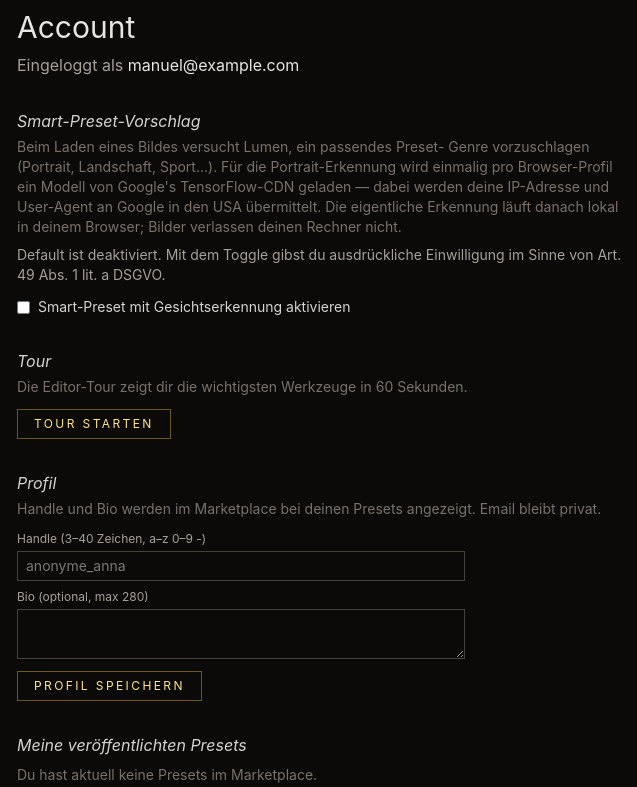
Scenario: Account › Profil-Save 409 zeigt 'bereits vergeben'-Hinweis
This screenshot has width=637, height=787.
Type "anna" into the field with test id "account-handle" at (241, 566), box [17,551,465,581]
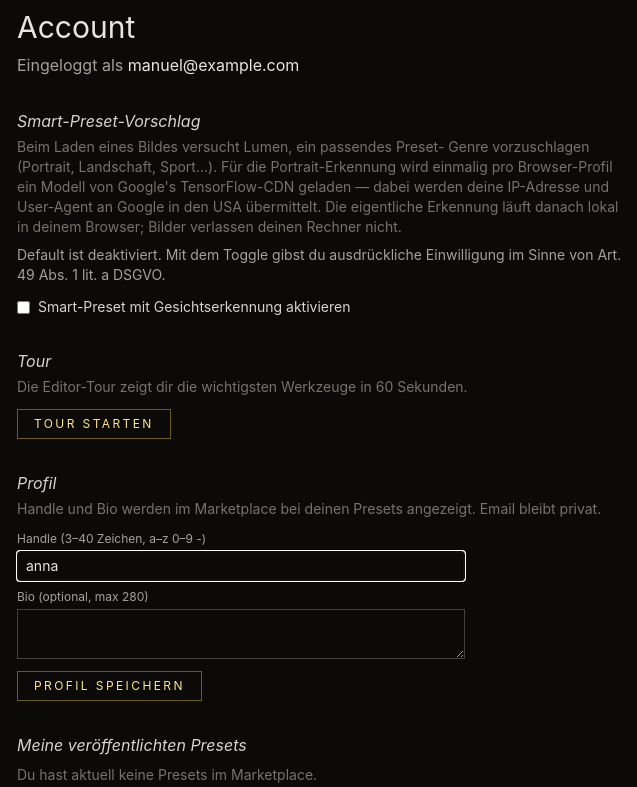
Click the button with test id "account-profile-save" at (109, 686), box [17,671,202,701]
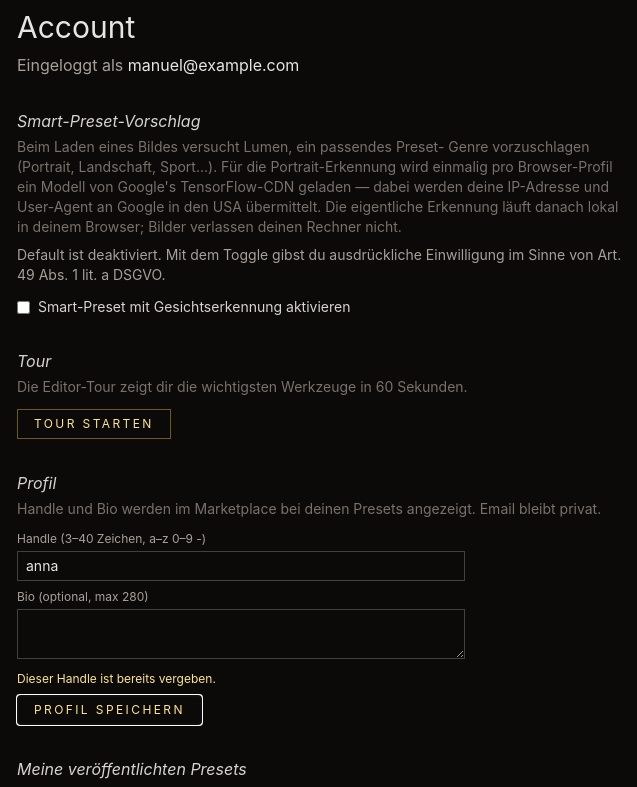
Result: the text with test id "account-profile-feedback" shows "bereits vergeben" at [17,671,216,686]
